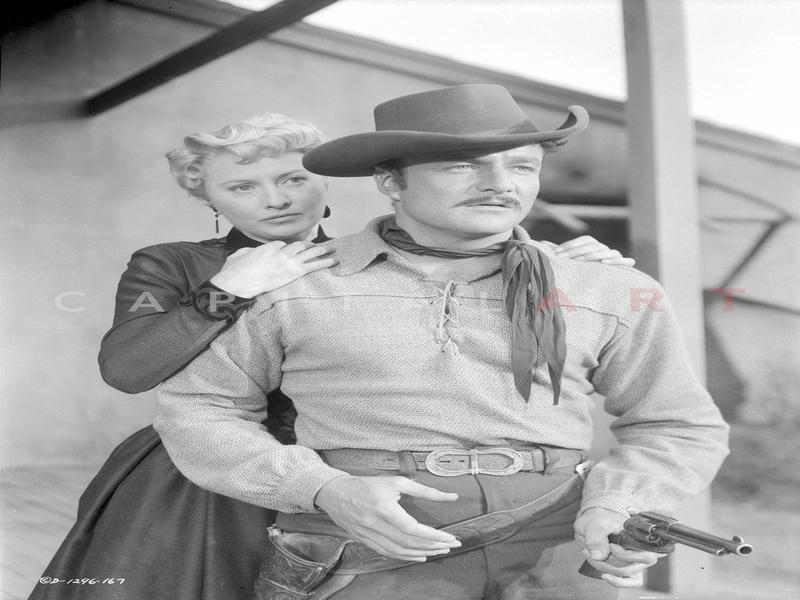Revolver: (589, 495, 767, 578)
